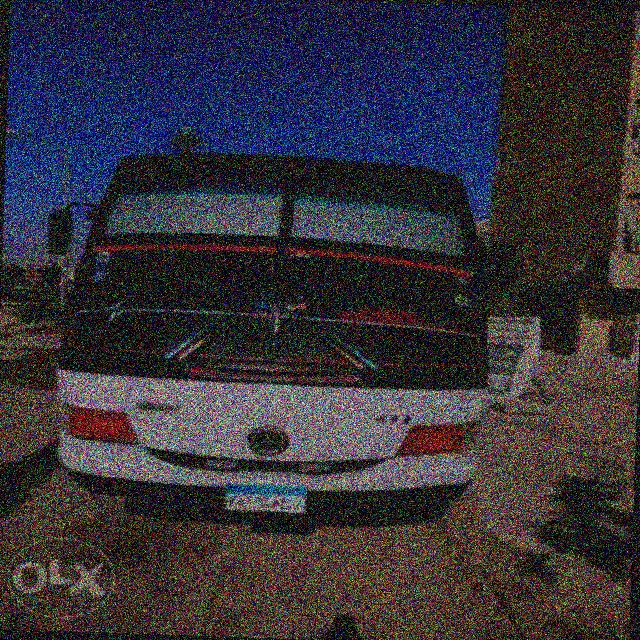License Plate: (222, 481, 310, 516)
